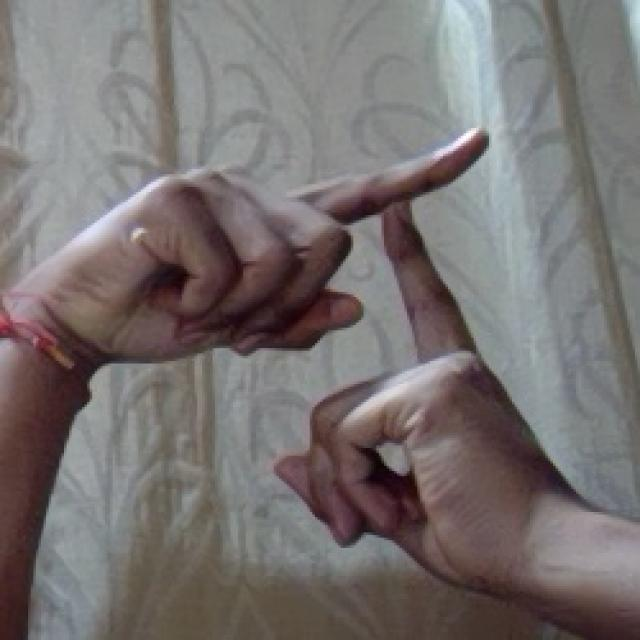Alphabet-T: (35, 126, 529, 602)
